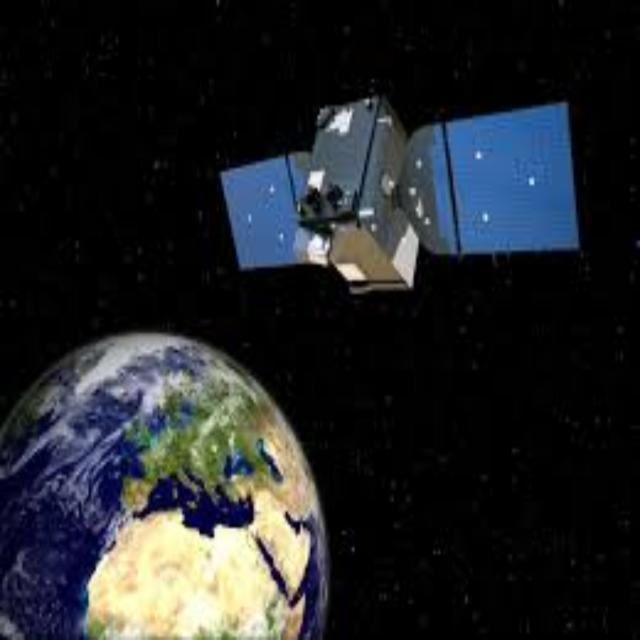sat: (217, 91, 589, 303)
